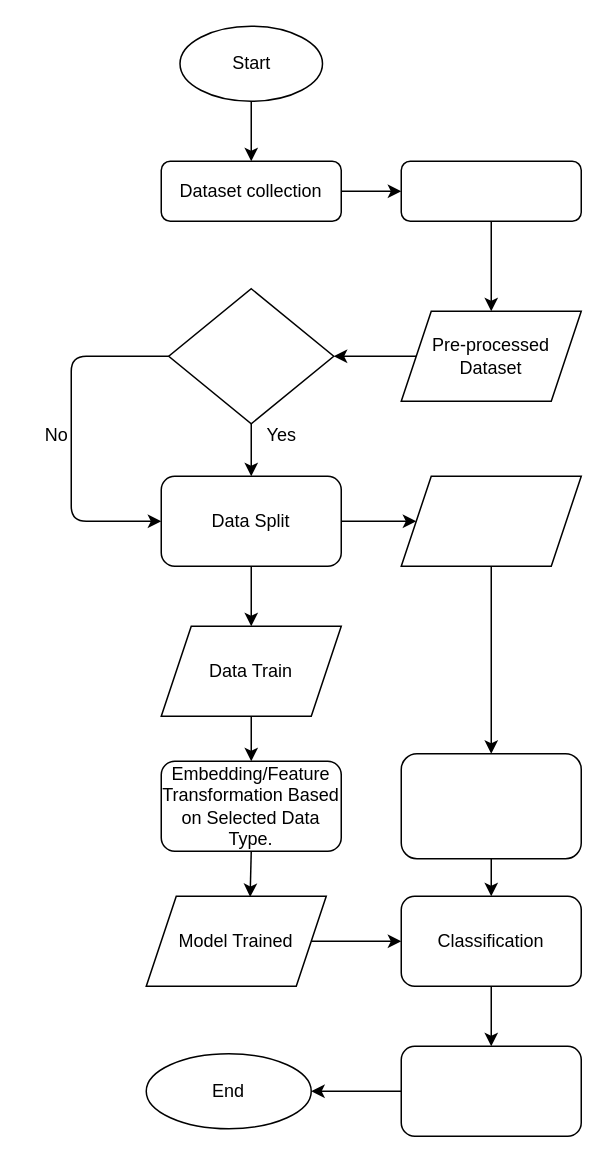
The diagram is 608 pixels wide and 1163 high, and some of its shapes have lost their labels. The box of each missing label's shape, as (x1, y1, x2, y2) in pixels:
Data Test: (400, 475, 581, 566)
Evaluation: (400, 1045, 581, 1136)
Include Spotify Audio Features?: (167, 287, 334, 424)
Pre-processing: (400, 160, 581, 221)
Use the Same Embedding/Feature Transformation Method as the Training Set.: (400, 752, 581, 859)
